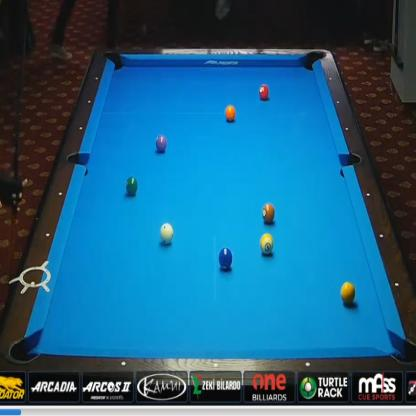Ball: (259, 233, 274, 256), (218, 248, 233, 270), (341, 281, 355, 304), (160, 223, 174, 244), (262, 203, 275, 223), (125, 176, 138, 195), (155, 134, 167, 153), (225, 105, 236, 122), (259, 84, 269, 100)
